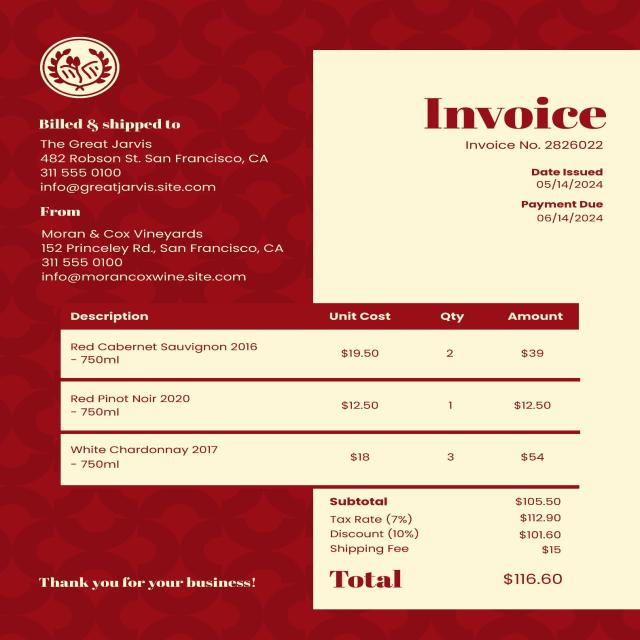paragraph: (327, 492, 567, 592), (36, 205, 306, 286), (32, 115, 277, 200), (409, 92, 615, 155), (514, 165, 609, 226), (34, 574, 266, 590)
table: (61, 308, 576, 472)
